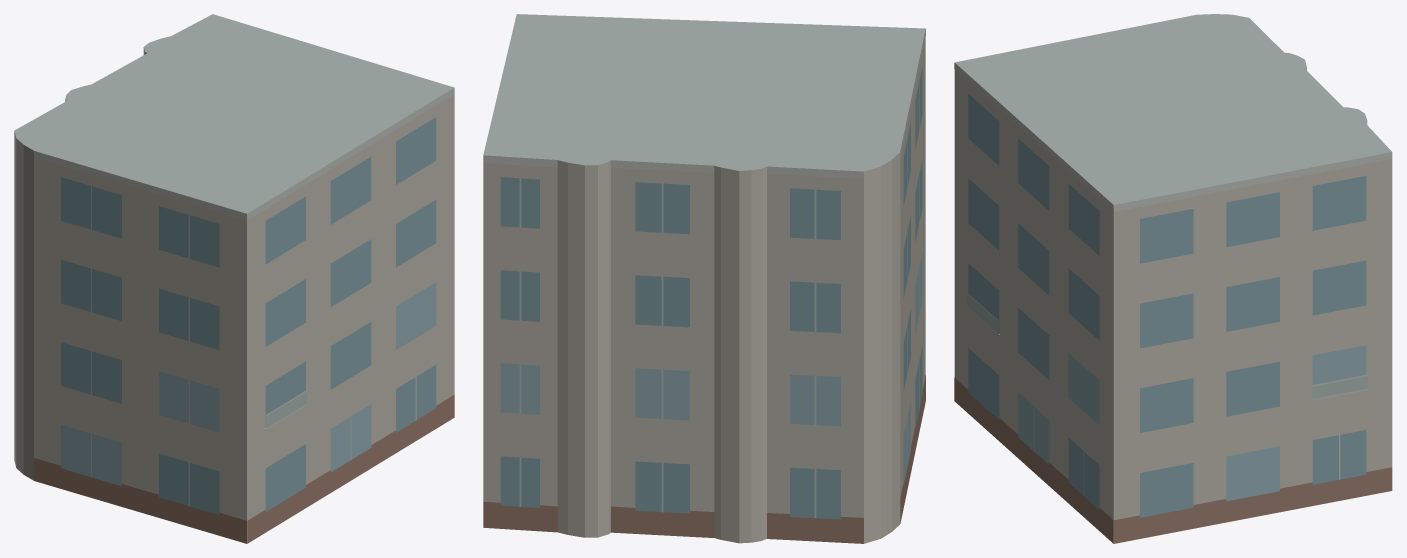
The model's file is survey-upis-32703843.glb.
3 views of the same model, side by side, from view 1: azimuth 30°, elevation 25°; view 2: azimuth 150°, elevation 25°; view 3: azimuth 270°, elevation 25° (orthographic). The views are drawn at different scales.
Parts seen in each view (by area): view 1: survey-upis-32703843.tmp; view 2: survey-upis-32703843.tmp; view 3: survey-upis-32703843.tmp.
Boxes of the visible parts, <box> form: survey-upis-32703843.tmp: <box>14,14,454,543</box>; survey-upis-32703843.tmp: <box>483,14,925,543</box>; survey-upis-32703843.tmp: <box>954,14,1392,543</box>.
Bounding box in the file's own units: 14.77 × 12.2 × 14.3.
